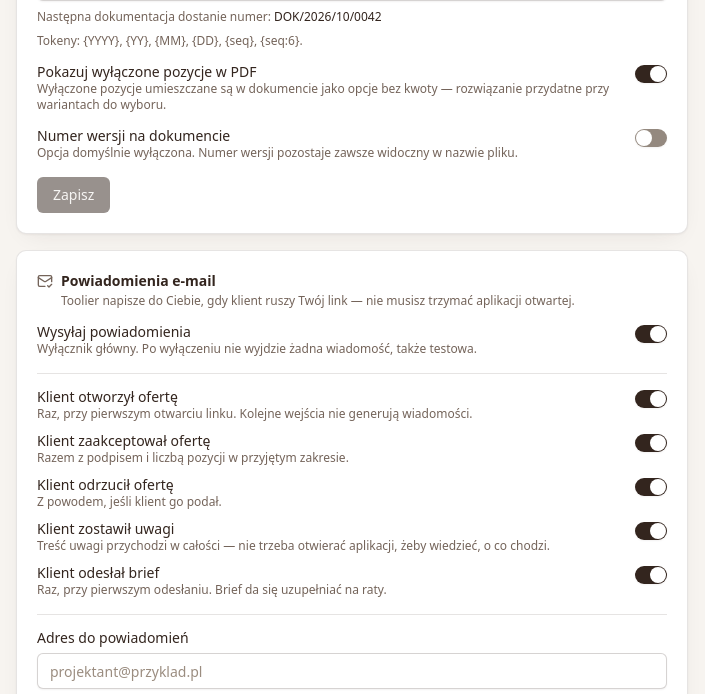
Test: Powiadomienia e-mail (T-116) › wylacznik glowny blokuje przelaczniki rodzajow
(page scrolled)
Expected: the switch named "Klient zaakceptował ofertę" in the row of "Klient zaakceptował ofertę" is enabled, [635,434,667,452]
Click the switch named "Wysyłaj powiadomienia" in the row of "Wysyłaj powiadomienia" at (651, 334), box [635,325,667,343]
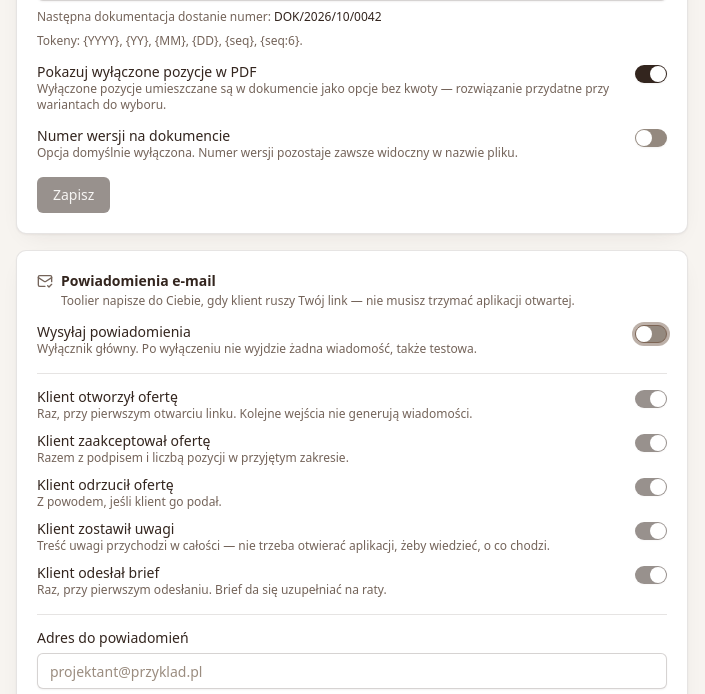
Expected: the switch named "Klient zaakceptował ofertę" in the row of "Klient zaakceptował ofertę" is disabled, [635,434,667,452]
